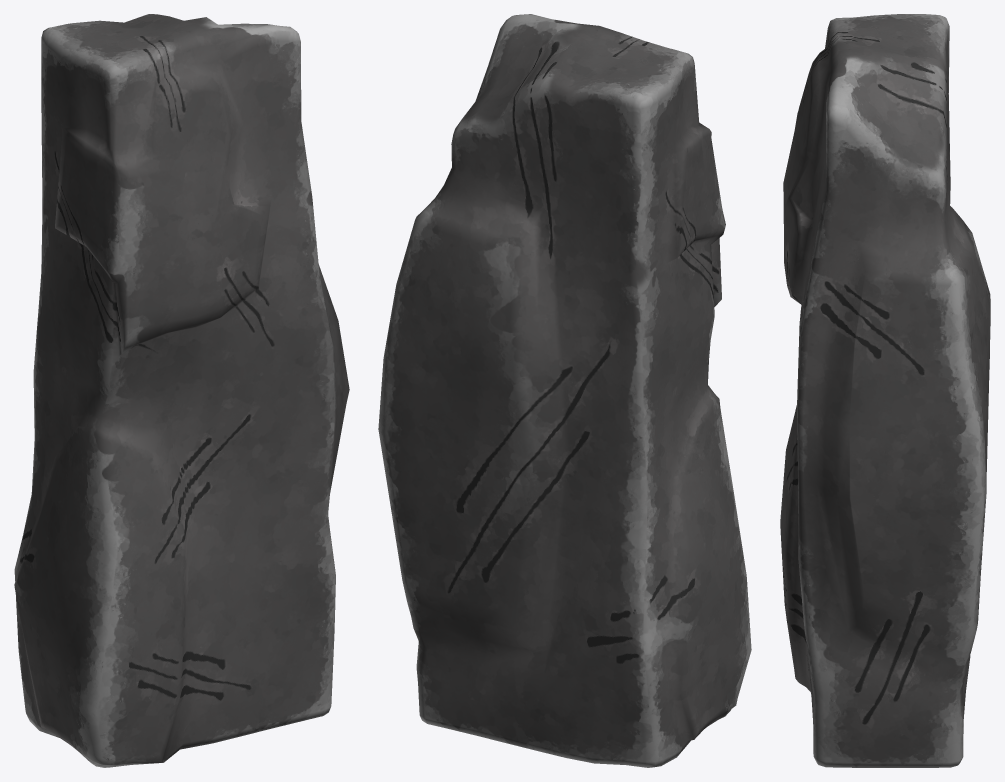
Rendered from Menhir_6_Game.fbx.
3 views of the same model, side by side, from view 1: azimuth 30°, elevation 25°; view 2: azimuth 150°, elevation 25°; view 3: azimuth 270°, elevation 25° (orthographic). The views are drawn at different scales.
Parts seen in each view (by area): view 1: pCube2; view 2: pCube2; view 3: pCube2.
Part boxes in pixels (x1,y1,x2,y2): pCube2: (14,14,349,767); pCube2: (378,14,751,767); pCube2: (780,14,990,767).
Bounding box in the file's own units: 5.83 × 13.21 × 3.78.
1 material, 1 textured.
